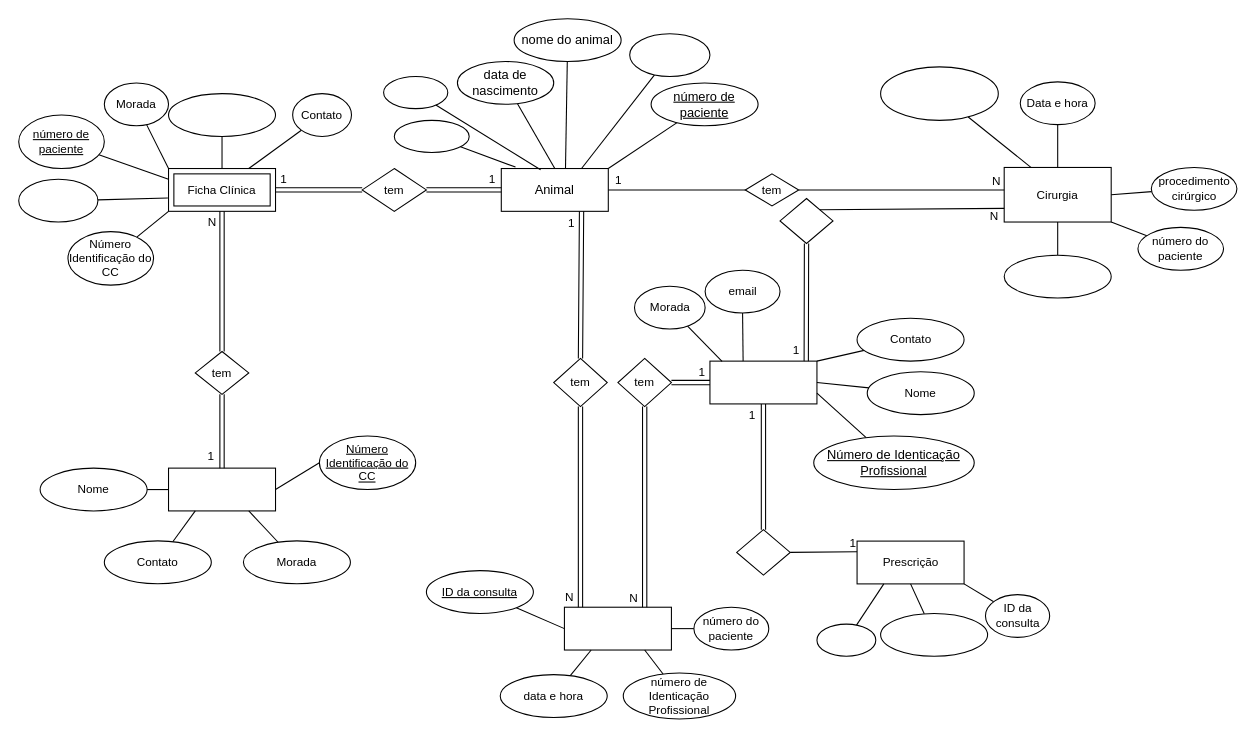
This 1256x738 diagram has some shape labels left out. The box of each missing label's shape, as (x1, y1, x2, y2) in pixels:
Consulta: (563, 606, 671, 650)
data: (816, 623, 876, 656)
Dono: (167, 467, 276, 511)
espécie: (393, 119, 469, 152)
género: (629, 33, 710, 77)
ID da cirurgia: (1003, 254, 1111, 298)
Médico Veterinário: (709, 360, 817, 404)
Nome do dono: (18, 178, 98, 222)
número de identificação profissional: (880, 66, 998, 120)
número único de prescrição: (880, 612, 988, 656)
passa: (736, 529, 790, 575)
raça: (383, 75, 448, 109)
realiza: (779, 197, 833, 243)
registos médicos: (167, 93, 276, 136)
